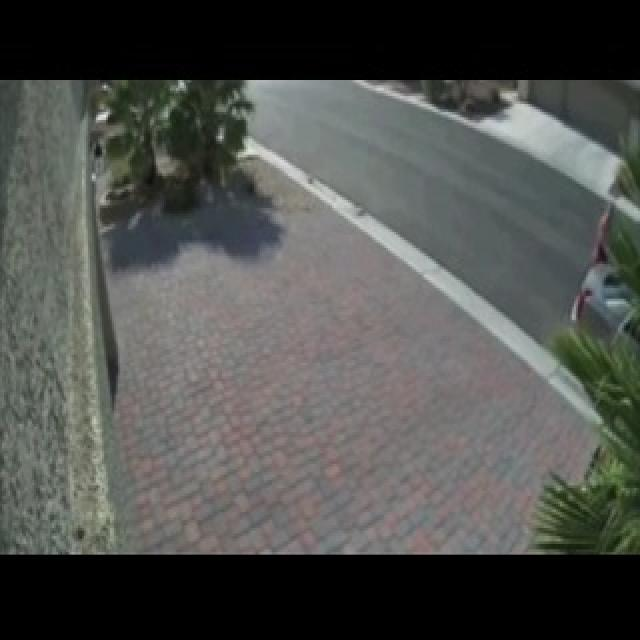thief: (592, 190, 624, 260)
